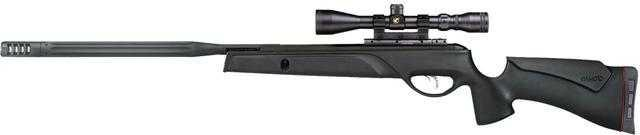heavyweapon: (0, 2, 640, 135)
